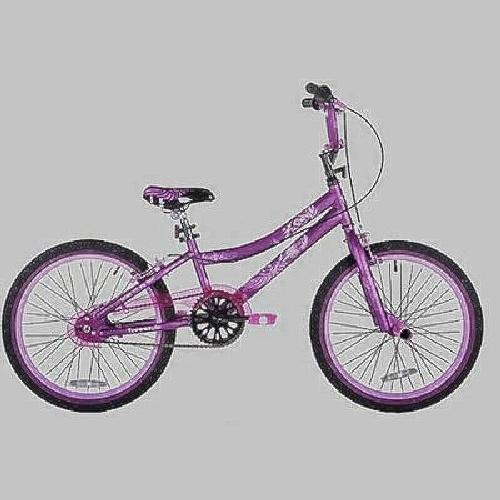bicycle: (26, 83, 486, 413)
